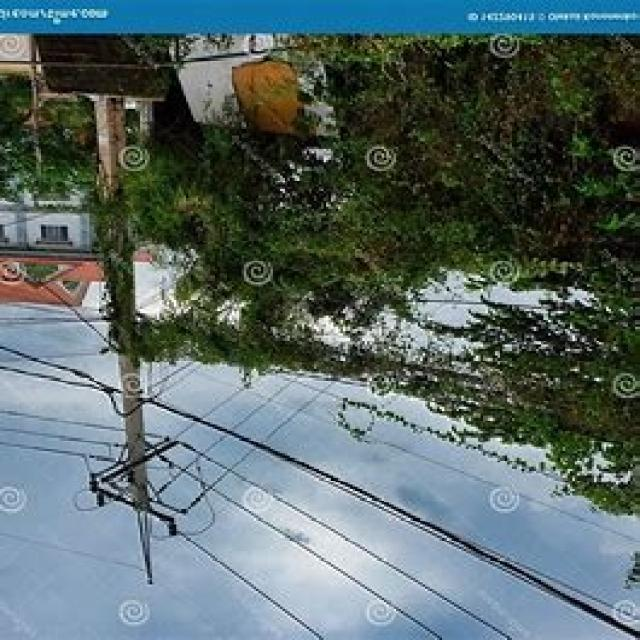critical vegetation: (142, 237, 638, 459)
